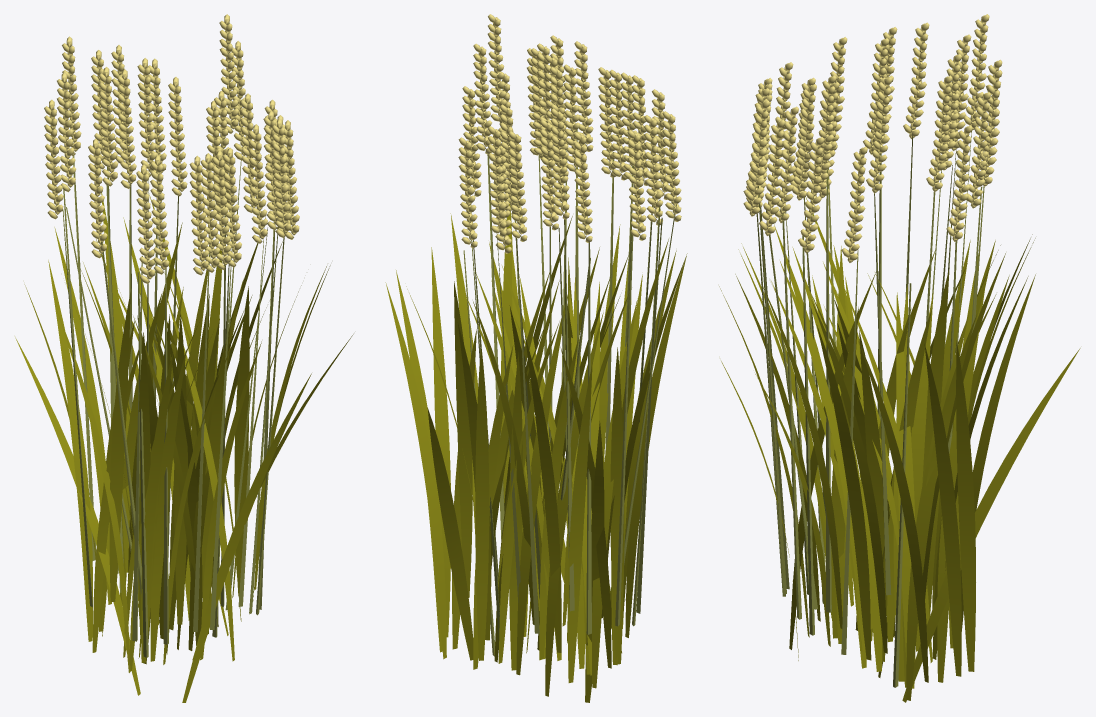
File: wheat.dae
The picture shows the model from 3 angles, left to right: view 1: azimuth 30°, elevation 25°; view 2: azimuth 150°, elevation 25°; view 3: azimuth 270°, elevation 25°; orthographic projection. The views are drawn at different scales.
Parts seen in each view (by area): view 1: reed_grass_leaf (×31), group_3, group_0, group_1, group_16, group_19, group_4, group_12, group_15, group_7, group_9, group_6 (+5 smaller); view 2: reed_grass_leaf (×45), group_15, group_13, group_1, group_10, group_12, group_4, group_18, group_16, group_23, group_3, group_14 (+3 smaller); view 3: reed_grass_leaf (×39), group_7, group_21, group_6, group_17, group_18, group_5, group_9, group_8, group_0, group_16, group_19 (+1 smaller).
Boxes of the visible parts, bbox=[...] form: reed_grass_leaf (×31): bbox=[15, 192, 326, 702]; group_3: bbox=[137, 272, 148, 657]; group_0: bbox=[193, 245, 209, 632]; group_1: bbox=[132, 256, 142, 641]; group_16: bbox=[210, 241, 232, 629]; group_19: bbox=[163, 259, 168, 644]; group_4: bbox=[101, 241, 141, 597]; group_12: bbox=[72, 156, 96, 560]; group_15: bbox=[62, 209, 92, 607]; group_7: bbox=[256, 237, 284, 615]; group_9: bbox=[238, 216, 265, 606]; group_6: bbox=[249, 227, 278, 614]; reed_grass_leaf (×45): bbox=[385, 197, 687, 702]; group_15: bbox=[615, 234, 633, 626]; group_13: bbox=[586, 242, 591, 634]; group_1: bbox=[636, 199, 660, 613]; group_10: bbox=[516, 238, 539, 633]; group_12: bbox=[564, 219, 574, 611]; group_4: bbox=[624, 204, 676, 564]; group_18: bbox=[487, 154, 504, 539]; group_16: bbox=[605, 152, 614, 561]; group_23: bbox=[496, 233, 520, 602]; group_3: bbox=[632, 217, 662, 626]; group_14: bbox=[560, 258, 590, 500]; reed_grass_leaf (×39): bbox=[719, 224, 1080, 702]; group_7: bbox=[802, 235, 814, 635]; group_21: bbox=[893, 283, 911, 687]; group_6: bbox=[782, 214, 801, 619]; group_17: bbox=[826, 170, 831, 612]; group_18: bbox=[874, 191, 891, 595]; group_5: bbox=[841, 250, 858, 654]; group_9: bbox=[757, 186, 786, 594]; group_8: bbox=[766, 210, 817, 609]; group_0: bbox=[760, 207, 789, 589]; group_16: bbox=[756, 213, 785, 596]; group_19: bbox=[785, 203, 808, 594].
Bounding box in the file's own units: 19.9 × 24.89 × 51.64.
